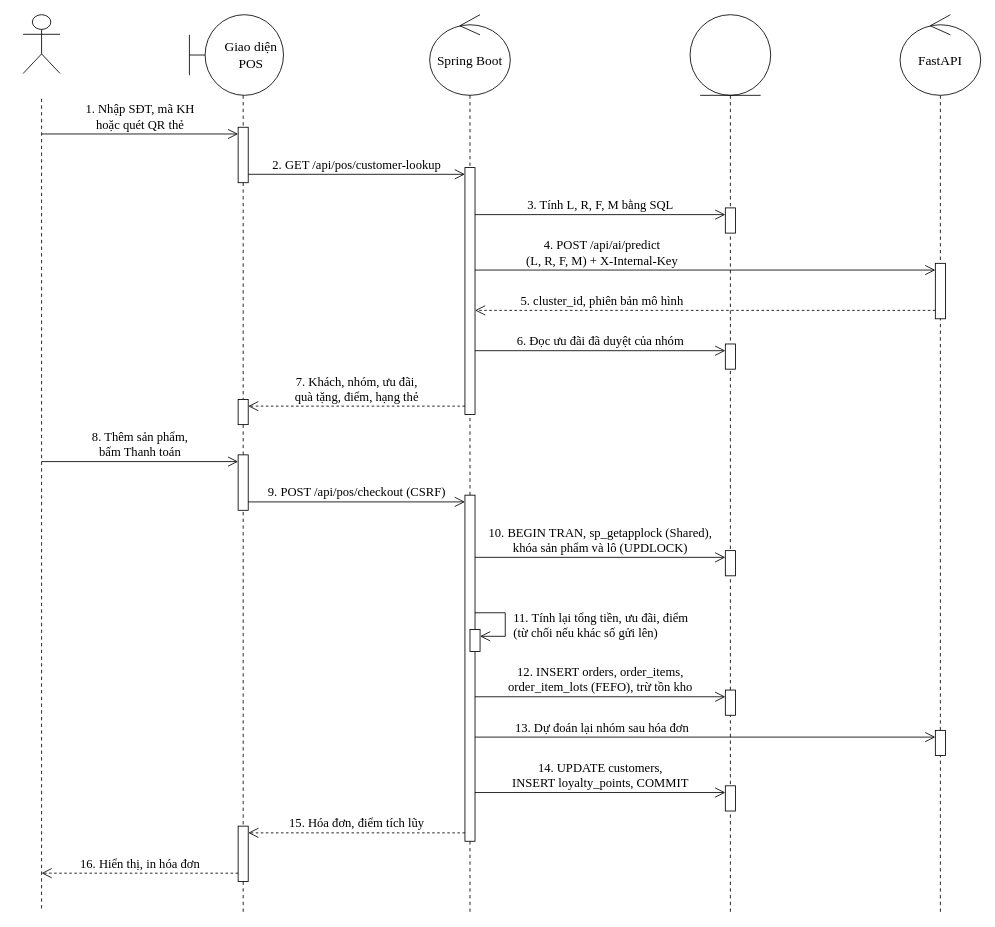
The diagram is 995 pixels wide and 927 high, and some of its shapes have lost their labels. Each missing label, with the centre of its shape:
SQL Server: (730,54)
Thu ngân: (41,44)
